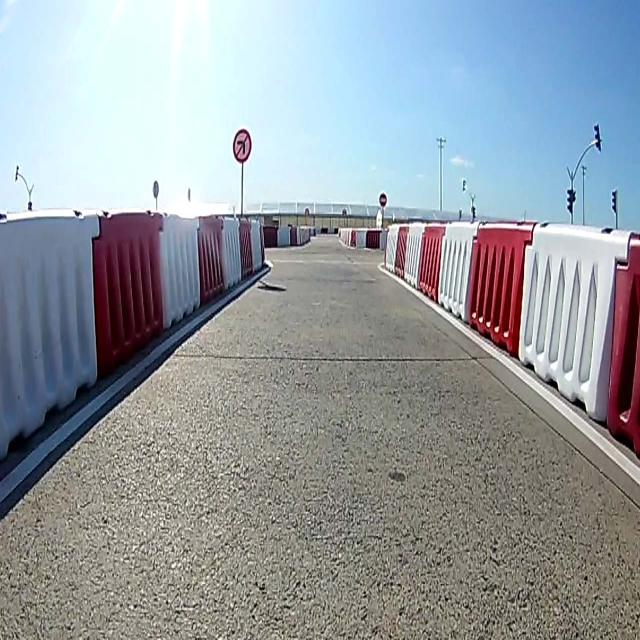girisyok: (378, 191, 388, 208)
soladonulmez: (232, 127, 254, 164)
